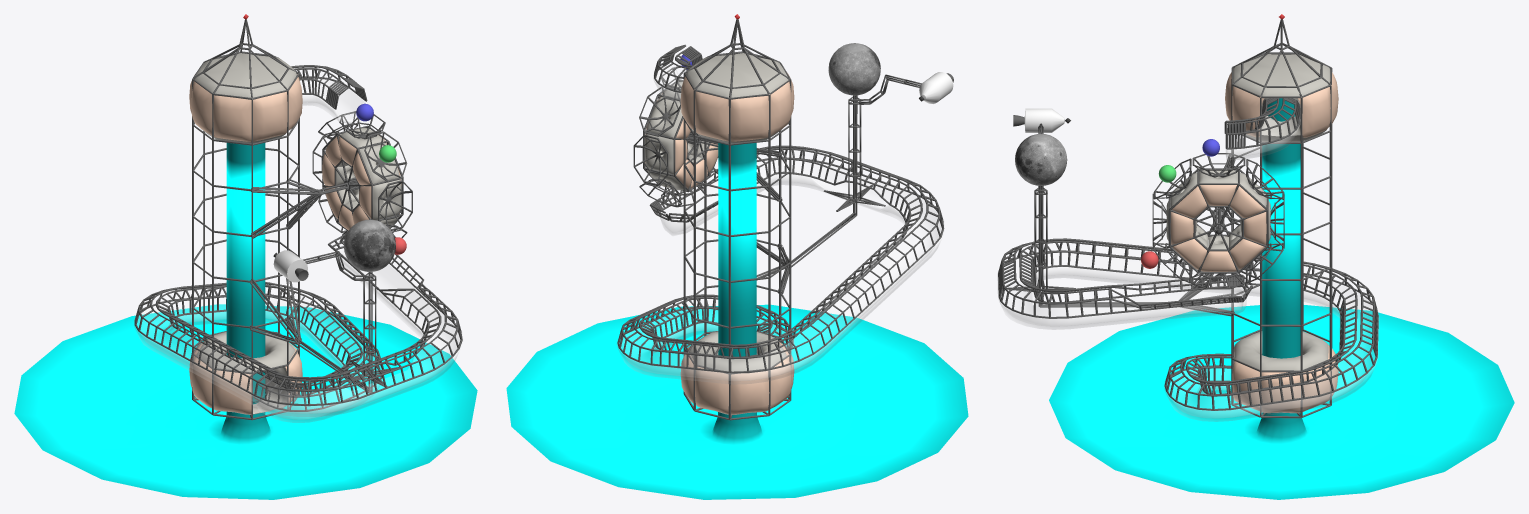
File: MarblesForever.glb
3 renders of one model, left to right at view 1: azimuth 30°, elevation 25°; view 2: azimuth 150°, elevation 25°; view 3: azimuth 270°, elevation 25°, orthographic.
Parts seen in each view (by area): view 1: elevator-effect, track-glass-below, track-struts-below, elevator-struts, elevator-foil, elevator-padding, wheel-struts, wheel-padding, wheel-foil, orbiter-moon, orbiter-struts, track-struts-above (+2 smaller); view 2: elevator-effect, track-glass-below, track-struts-below, elevator-struts, elevator-foil, elevator-padding, wheel-struts, orbiter-moon, wheel-padding, orbiter-struts, wheel-foil, track-struts-above (+2 smaller); view 3: elevator-effect, track-glass-below, track-struts-below, elevator-struts, elevator-padding, wheel-struts, elevator-foil, wheel-foil, orbiter-moon, wheel-padding, track-struts-above, track-glass-above (+2 smaller).
Part boxes in pixels (left/top/right/bottom): elevator-effect: left=14, top=142, right=477, bottom=499; track-glass-below: left=134, top=249, right=462, bottom=422; track-struts-below: left=134, top=235, right=462, bottom=411; elevator-struts: left=192, top=19, right=372, bottom=420; elevator-foil: left=189, top=74, right=302, bottom=414; elevator-padding: left=195, top=53, right=296, bottom=414; wheel-struts: left=312, top=111, right=412, bottom=244; wheel-padding: left=336, top=128, right=401, bottom=228; wheel-foil: left=322, top=136, right=401, bottom=230; orbiter-moon: left=343, top=219, right=395, bottom=271; orbiter-struts: left=295, top=251, right=399, bottom=386; track-struts-above: left=291, top=65, right=367, bottom=109; elevator-effect: left=506, top=143, right=968, bottom=499; track-glass-below: left=617, top=160, right=944, bottom=384; track-struts-below: left=617, top=145, right=944, bottom=373; elevator-struts: left=683, top=19, right=857, bottom=420; elevator-foil: left=680, top=73, right=794, bottom=414; elevator-padding: left=686, top=53, right=788, bottom=415; wheel-struts: left=633, top=67, right=718, bottom=207; orbiter-moon: left=828, top=43, right=880, bottom=95; wheel-padding: left=645, top=81, right=708, bottom=190; orbiter-struts: left=823, top=73, right=953, bottom=211; wheel-foil: left=645, top=91, right=718, bottom=188; track-struts-above: left=654, top=44, right=702, bottom=92; elevator-effect: left=1049, top=98, right=1514, bottom=499; track-glass-below: left=997, top=253, right=1379, bottom=421; track-struts-below: left=998, top=238, right=1378, bottom=410; elevator-struts: left=1038, top=19, right=1332, bottom=418; elevator-padding: left=1233, top=54, right=1330, bottom=413; wheel-struts: left=1152, top=153, right=1284, bottom=289; elevator-foil: left=1225, top=72, right=1338, bottom=412; wheel-foil: left=1170, top=185, right=1266, bottom=271; orbiter-moon: left=1015, top=133, right=1067, bottom=185; wheel-padding: left=1166, top=169, right=1270, bottom=271; track-struts-above: left=1224, top=98, right=1300, bottom=149; track-glass-above: left=1226, top=115, right=1300, bottom=160.
Size of the model in its own units: 1.06 by 1.05 by 1.17.
11 materials, 2 textured.
